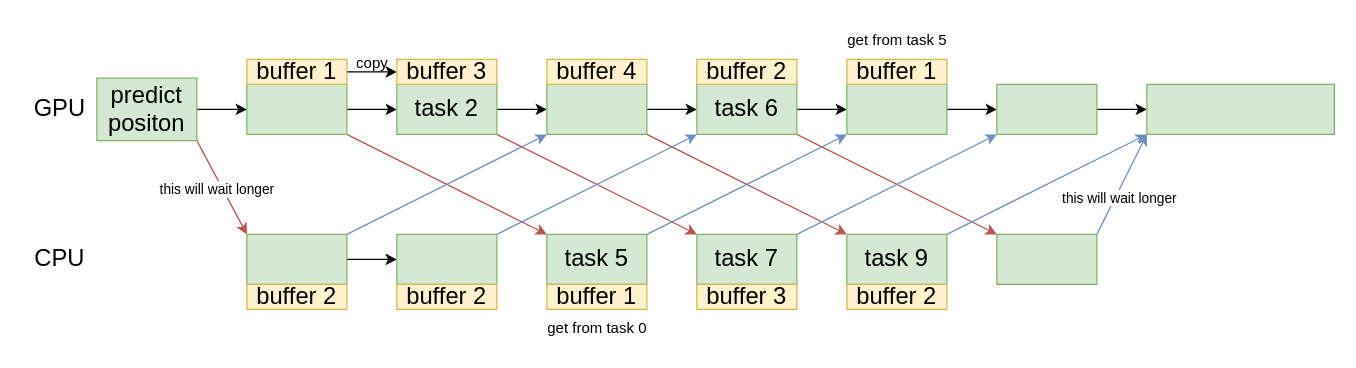
Some shapes in this 1356 by 368 pixel diagram are drawn without their labels. Here are the shapes that lost their labels. From the top down, the centre of each, then its label:
At [296,108]: "task 0".
At [596,108]: "task 4".
At [896,108]: "task 8".
At [1046,108]: "task 10".
At [1240,108]: "last node".
At [296,258]: "task 1".
At [446,258]: "task 3".
At [1046,258]: "task 11".
